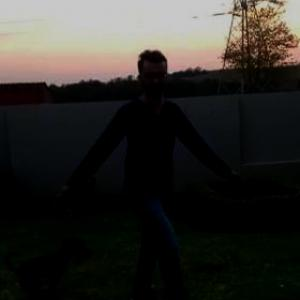land: (76, 69, 230, 294)
